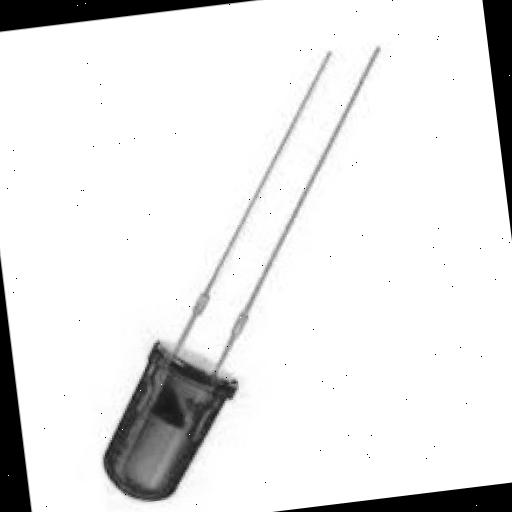LED: (36, 200, 334, 512)
